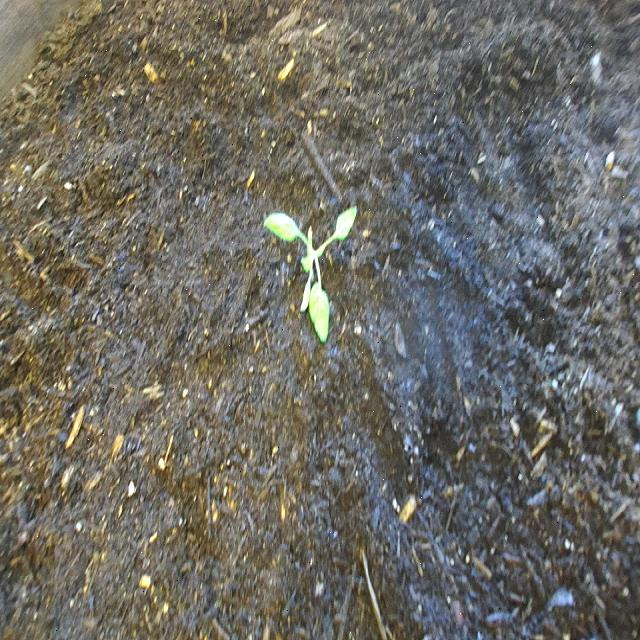Healthy: (261, 203, 360, 347)
